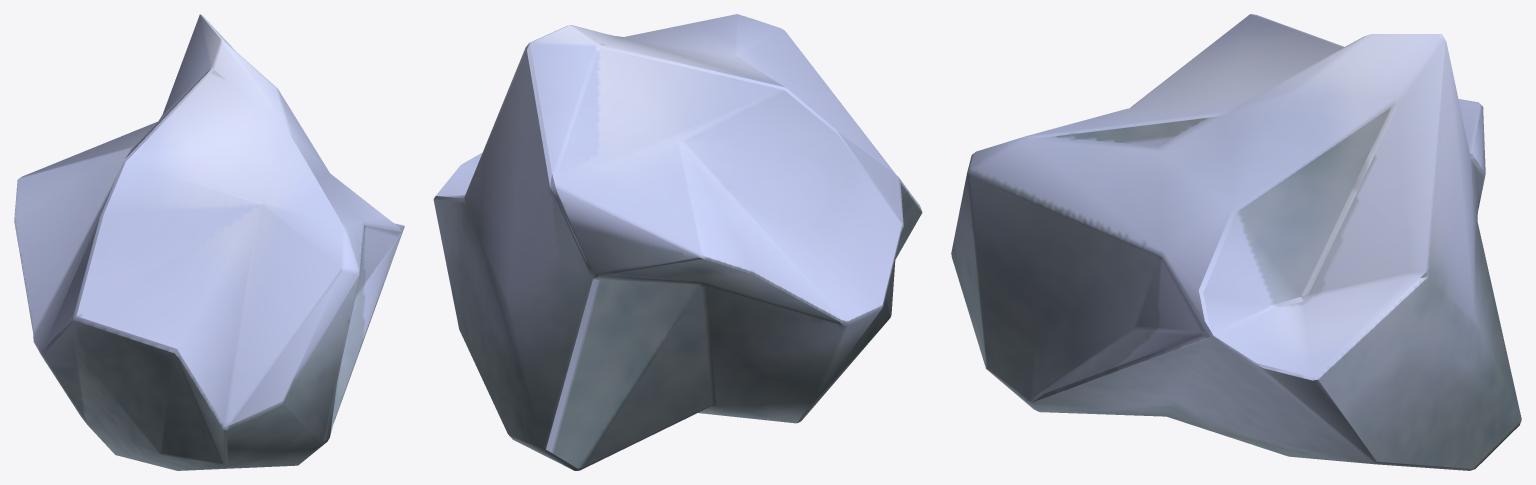
File: Rock4.fbx
3 renders of one model, left to right at view 1: azimuth 30°, elevation 25°; view 2: azimuth 150°, elevation 25°; view 3: azimuth 270°, elevation 25°, orthographic. The views are drawn at different scales.
Parts seen in each view (by area): view 1: Rock4; view 2: Rock4; view 3: Rock4.
Boxes of the visible parts, x1=… form: Rock4: x1=14, y1=14, x2=404, y2=470; Rock4: x1=433, y1=14, x2=922, y2=470; Rock4: x1=951, y1=14, x2=1521, y2=470.
Bounding box in the file's own units: 387 × 355 × 405.
